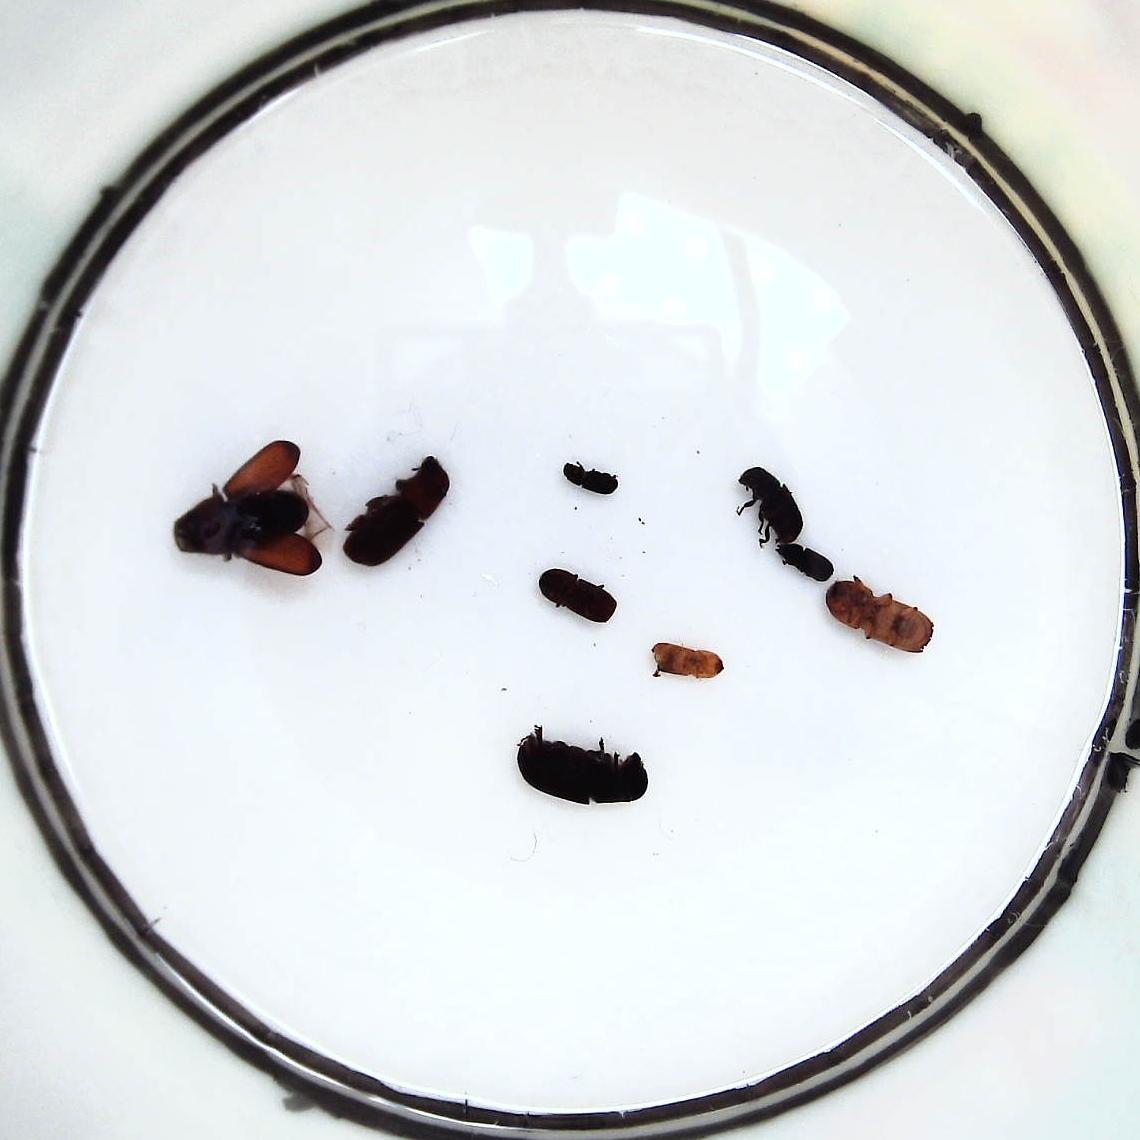Leconte: (172, 440, 324, 578), (342, 455, 450, 567), (518, 734, 649, 805)
acuminatus: (776, 544, 834, 581), (564, 464, 618, 496)
armandi: (738, 465, 803, 542), (539, 567, 617, 625)
coleoptera: (650, 642, 725, 680)
linnaeus: (827, 581, 934, 652)
